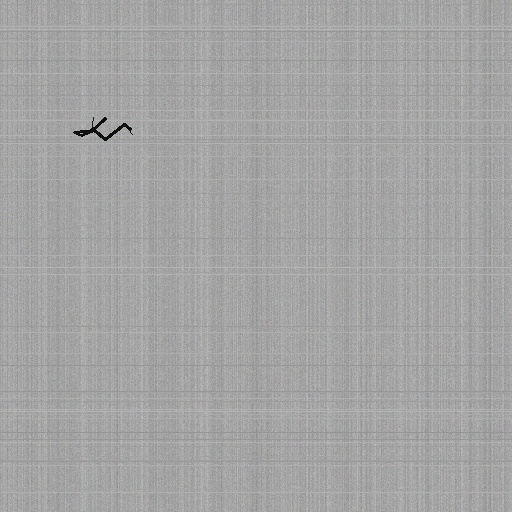crack: (70, 113, 136, 143)
